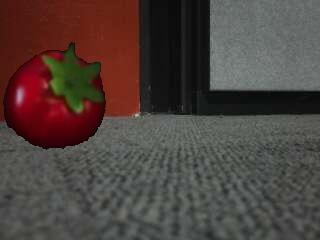Tomato: (2, 42, 108, 150)
